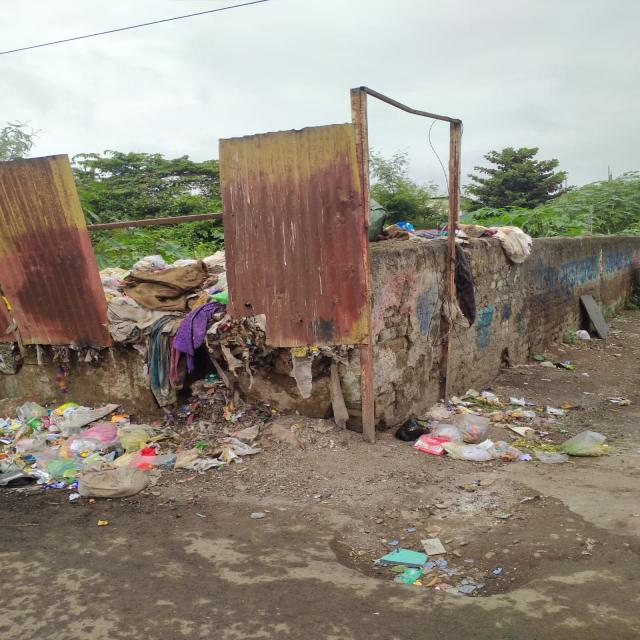garbage: (0, 403, 181, 500), (105, 255, 232, 389), (396, 389, 603, 466)
